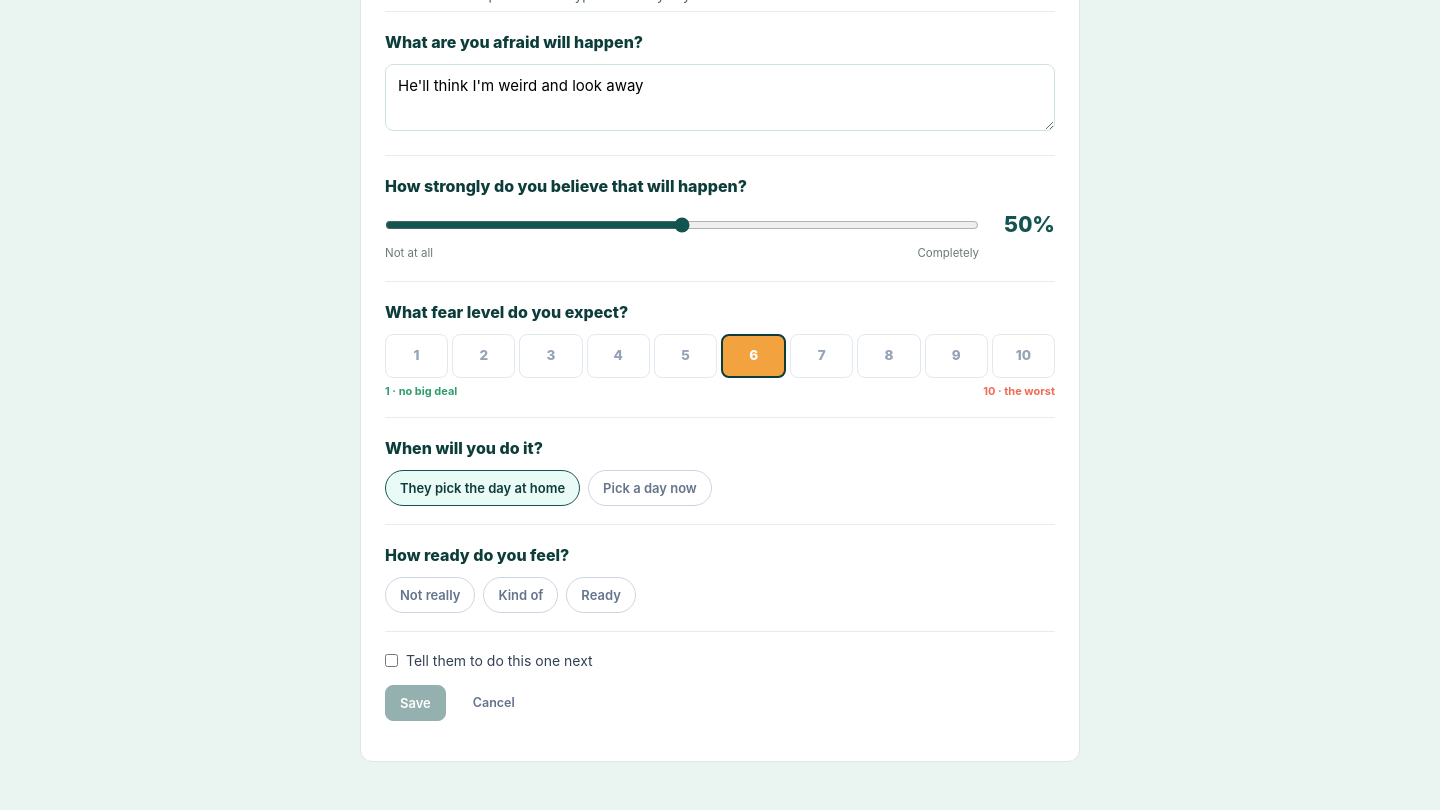
Test case: the clinician's Set it up › says so when the save fails, and stays open
The image size is (1440, 810).
(page scrolled)
Click the button "Kind of". click: (521, 595)
box: [483,577,558,613]
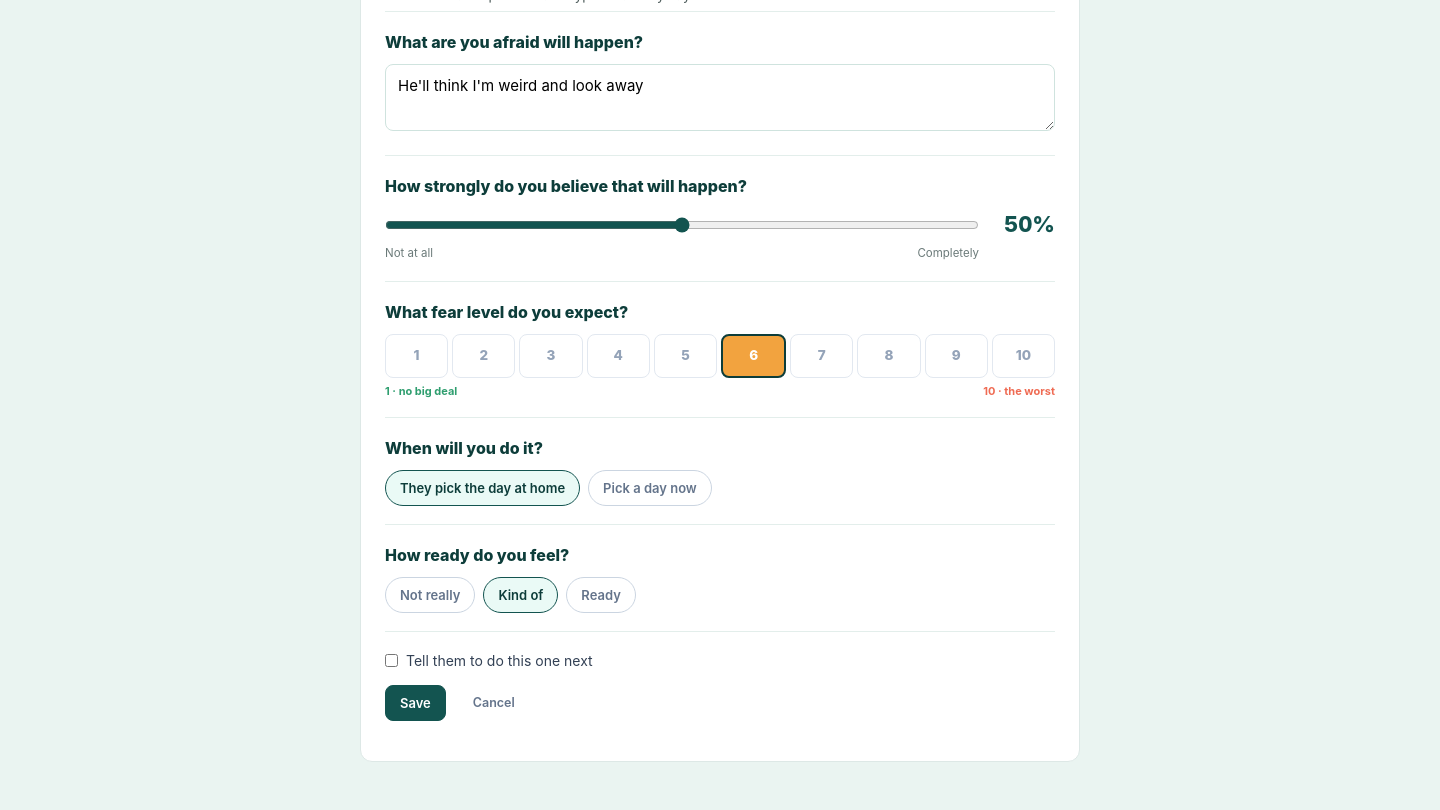
Click the button "Save". click: (415, 703)
box: [385,685,446,721]
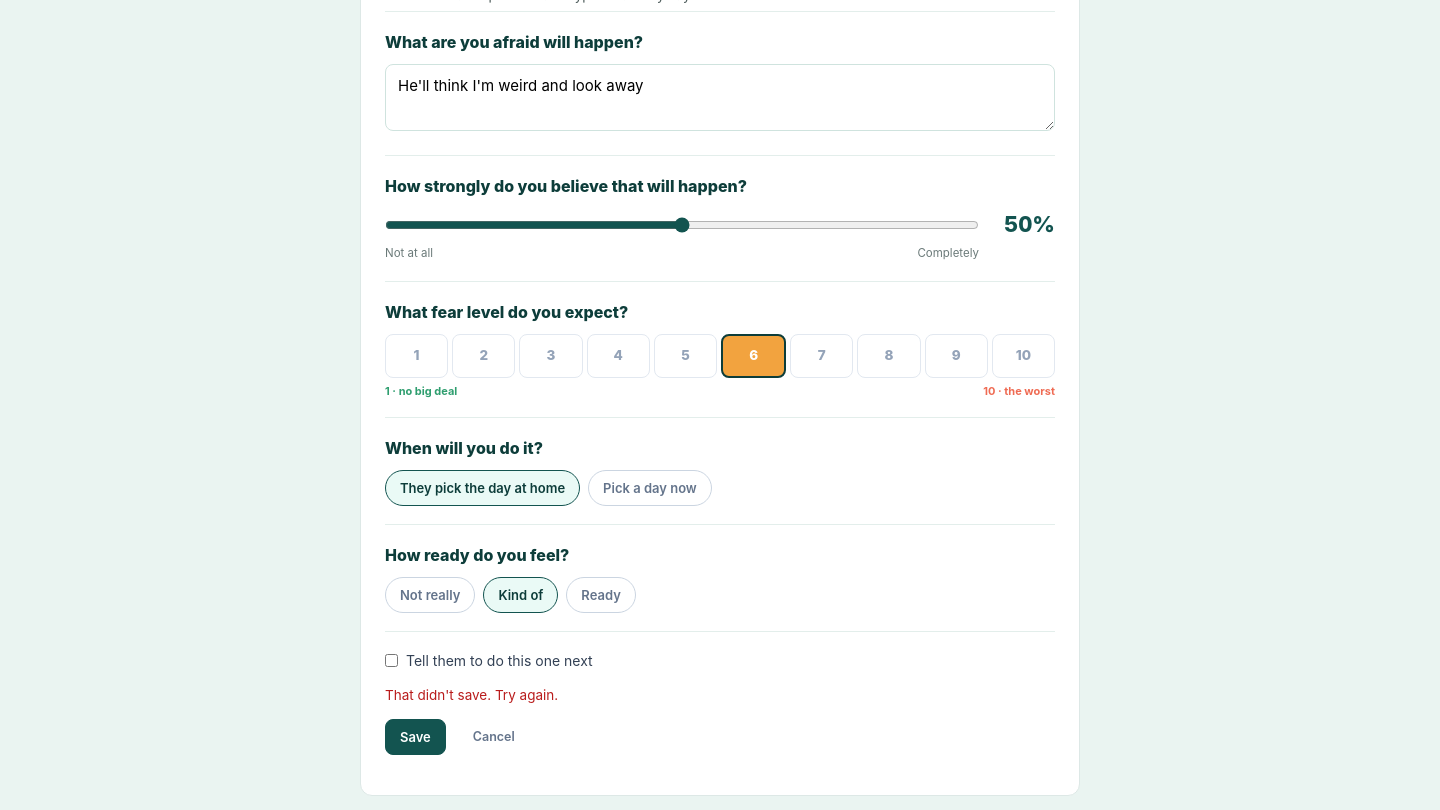
Check: the message shows "That didn't save.", box [385,687,558,703]
